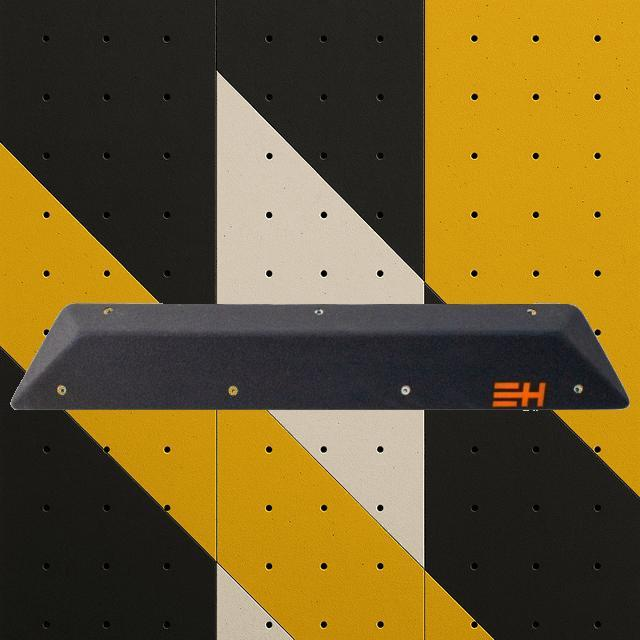Volume: (11, 301, 630, 411)
